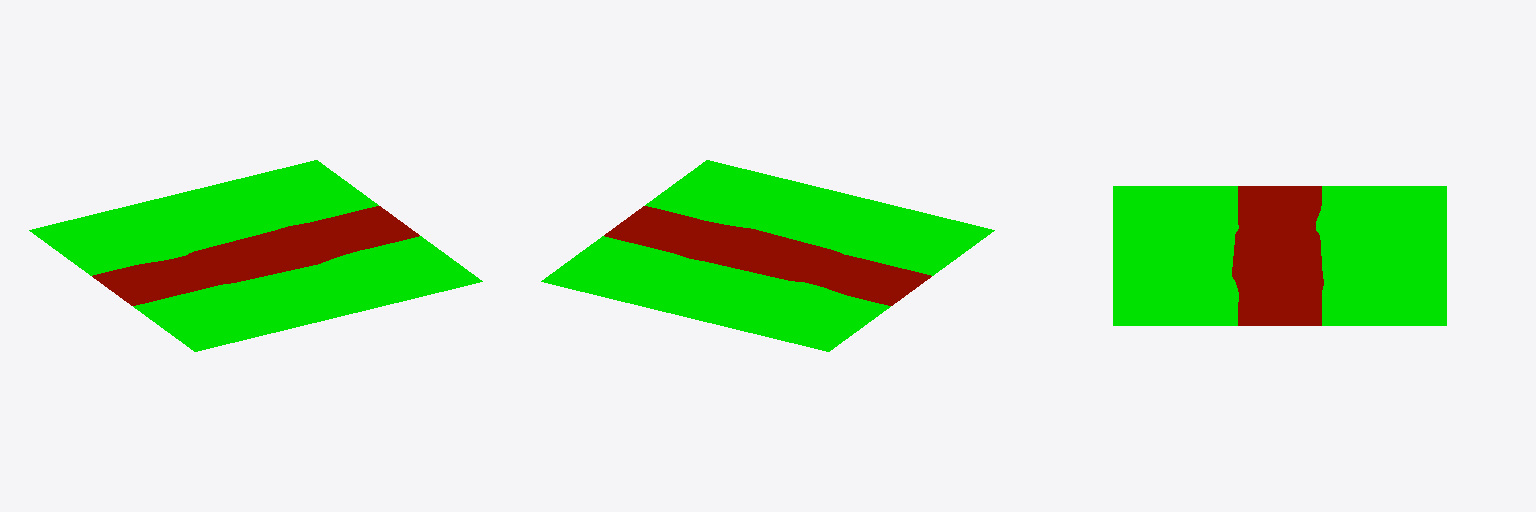
Rendered from Straight.obj.
3 renders of one model, left to right at view 1: azimuth 30°, elevation 25°; view 2: azimuth 150°, elevation 25°; view 3: azimuth 270°, elevation 25°, orthographic.
Bounding box in the file's own units: 20 × 0 × 20.